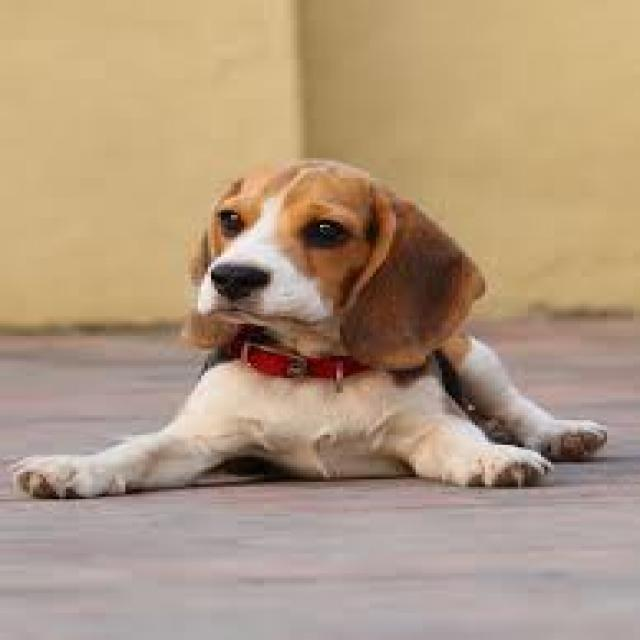Dog: (13, 154, 616, 504)
